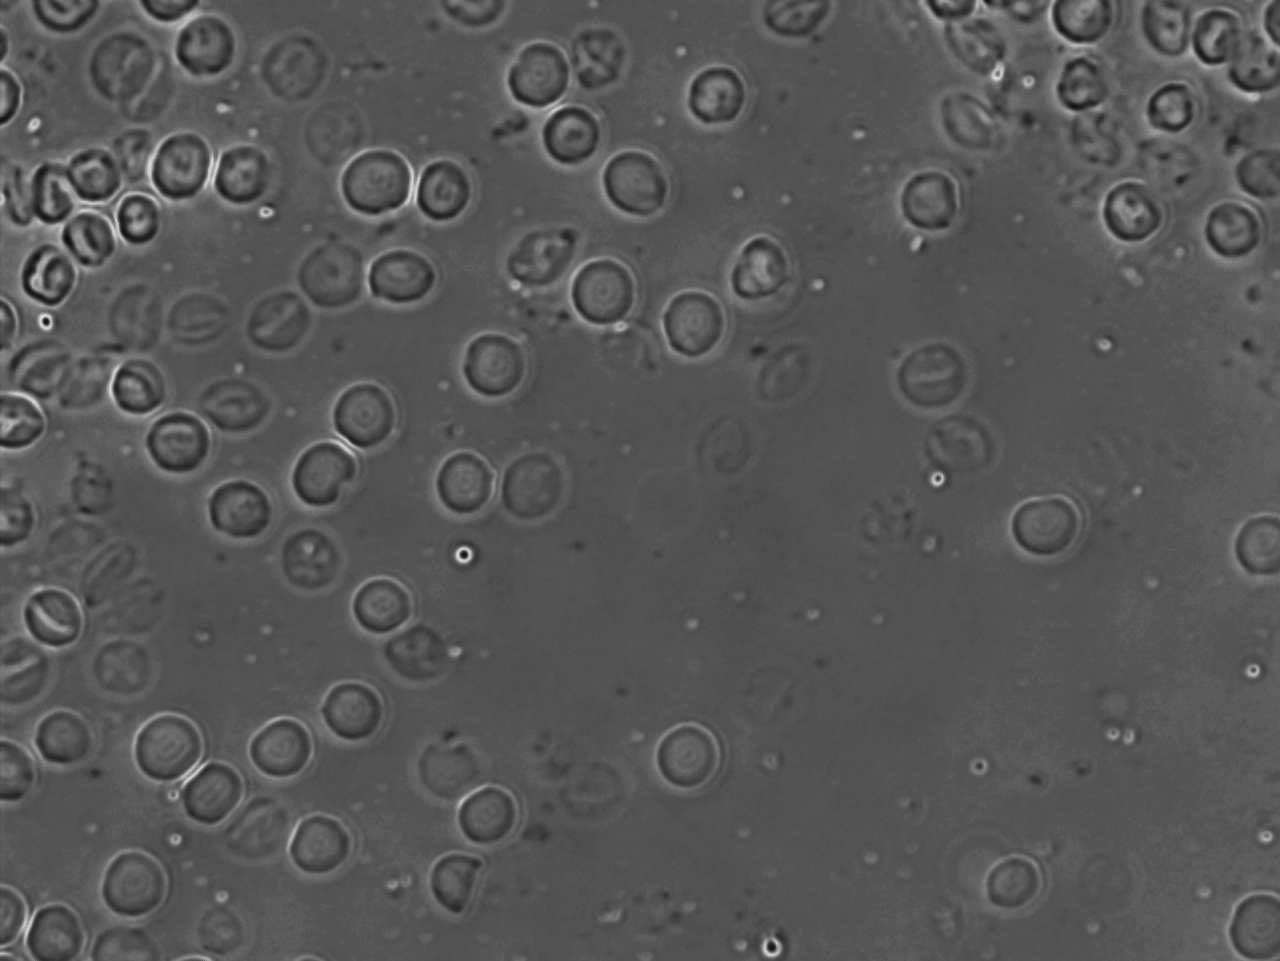depth:0: (121, 702, 226, 792), (1000, 475, 1093, 576), (553, 241, 655, 333), (299, 659, 392, 756), (642, 713, 745, 799), (353, 226, 441, 318), (142, 128, 227, 222), (403, 151, 491, 241), (329, 140, 416, 231), (1189, 188, 1275, 279), (586, 142, 683, 222), (9, 576, 101, 659), (87, 840, 180, 922), (426, 440, 511, 526), (647, 278, 732, 363), (501, 36, 586, 121), (337, 560, 428, 640), (242, 703, 327, 787), (169, 8, 252, 93), (1092, 170, 1173, 256), (315, 376, 403, 455), (282, 799, 371, 877), (103, 340, 187, 422), (133, 404, 221, 482), (442, 775, 528, 853), (200, 465, 283, 543), (172, 751, 255, 827), (531, 95, 610, 175), (455, 325, 536, 402), (286, 428, 362, 507), (677, 59, 757, 133), (31, 700, 108, 773), (13, 897, 101, 961), (1219, 495, 1280, 585), (1218, 879, 1280, 961)
